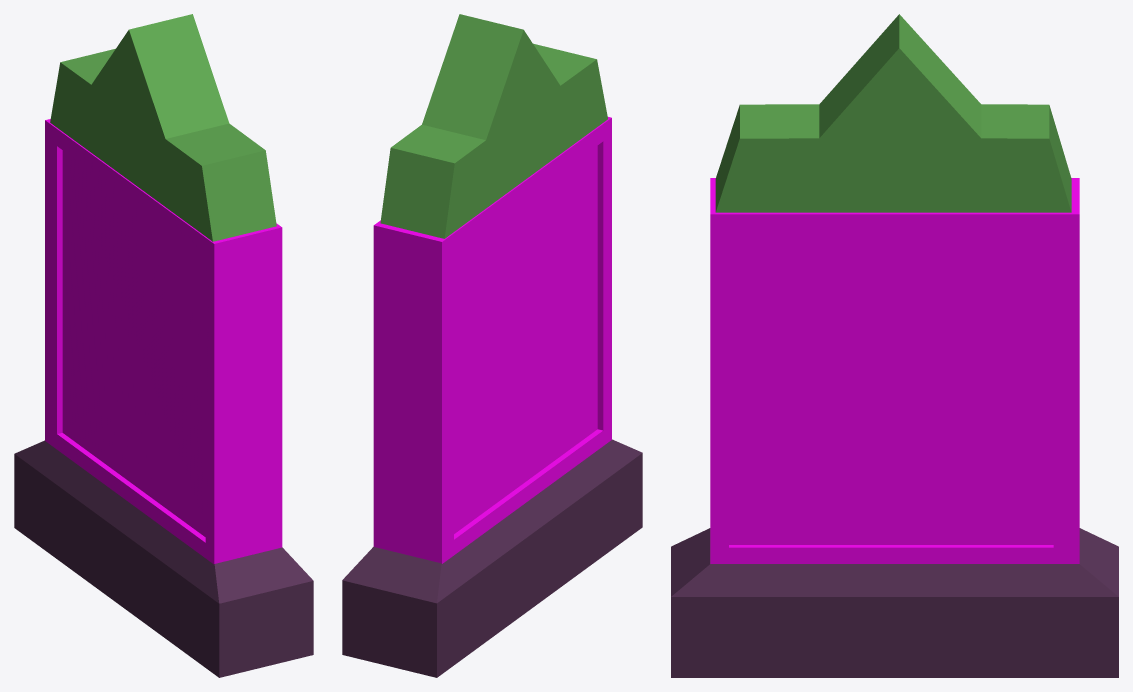
The model's file is Lapida_3.fbx.
3 renders of one model, left to right at view 1: azimuth 30°, elevation 25°; view 2: azimuth 150°, elevation 25°; view 3: azimuth 270°, elevation 25°, orthographic. The views are drawn at different scales.
Parts seen in each view (by area): view 1: pCube6, pCube5, pCube19; view 2: pCube6, pCube5, pCube19; view 3: pCube6, pCube5, pCube19.
Boxes of the visible parts, bbox=[...] form: pCube6: bbox=[45, 119, 282, 564]; pCube5: bbox=[14, 440, 313, 677]; pCube19: bbox=[50, 14, 276, 241]; pCube6: bbox=[373, 117, 611, 563]; pCube5: bbox=[342, 439, 642, 677]; pCube19: bbox=[380, 14, 607, 238]; pCube6: bbox=[710, 178, 1079, 563]; pCube5: bbox=[671, 528, 1118, 677]; pCube19: bbox=[715, 14, 1071, 212].
Bounding box in the file's own units: 0.7254 × 4.18 × 2.73.
